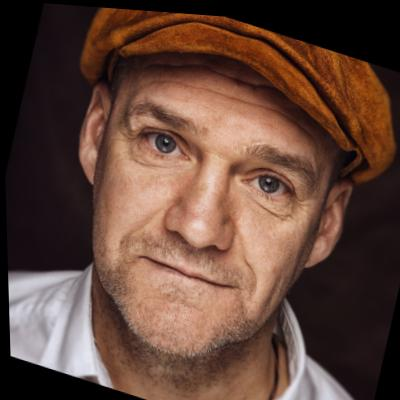netural: (58, 48, 343, 388)
